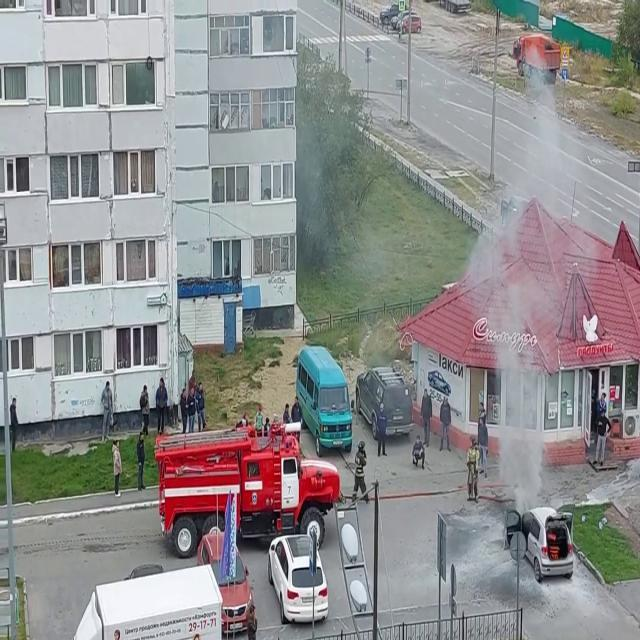Smoke: (487, 269, 550, 527)
